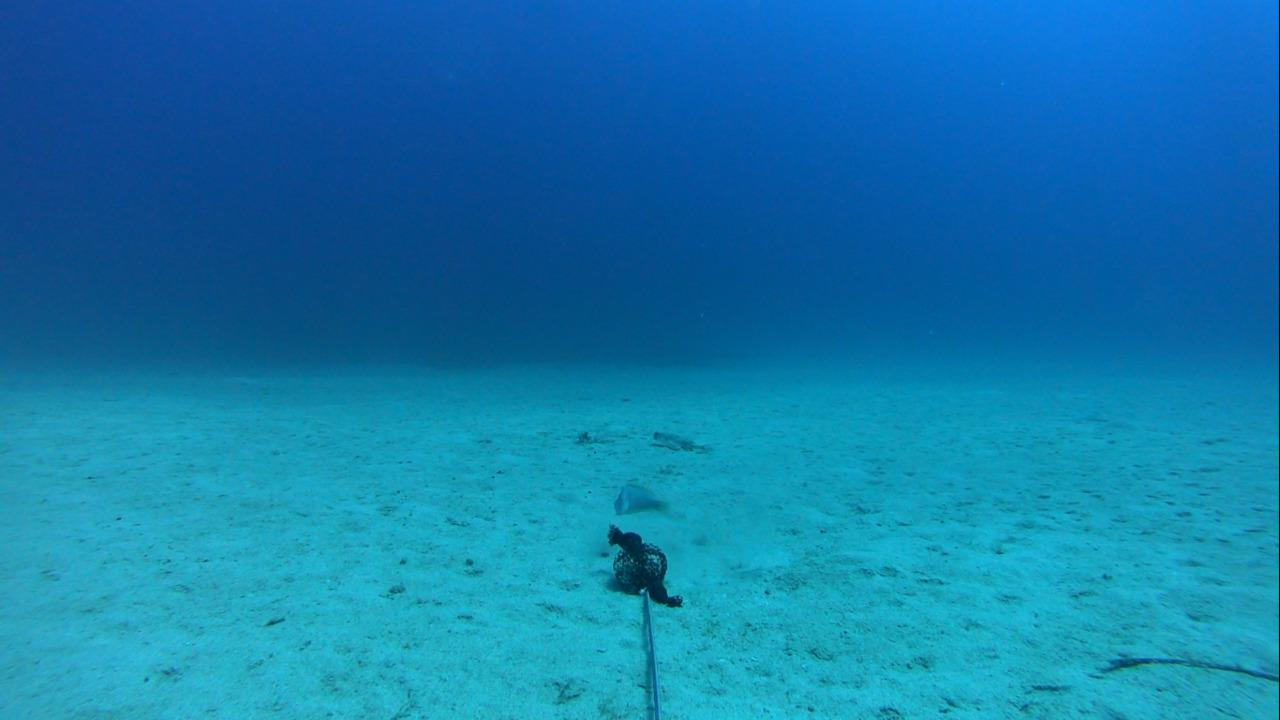dactylopterus: (636, 424, 714, 465), (564, 424, 618, 450)
raor: (606, 477, 669, 521)
